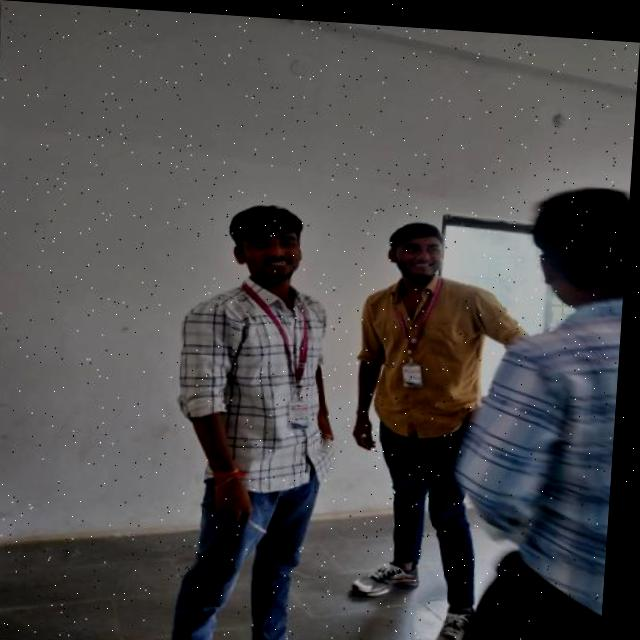id_card: (242, 273, 343, 428), (383, 277, 450, 392)
